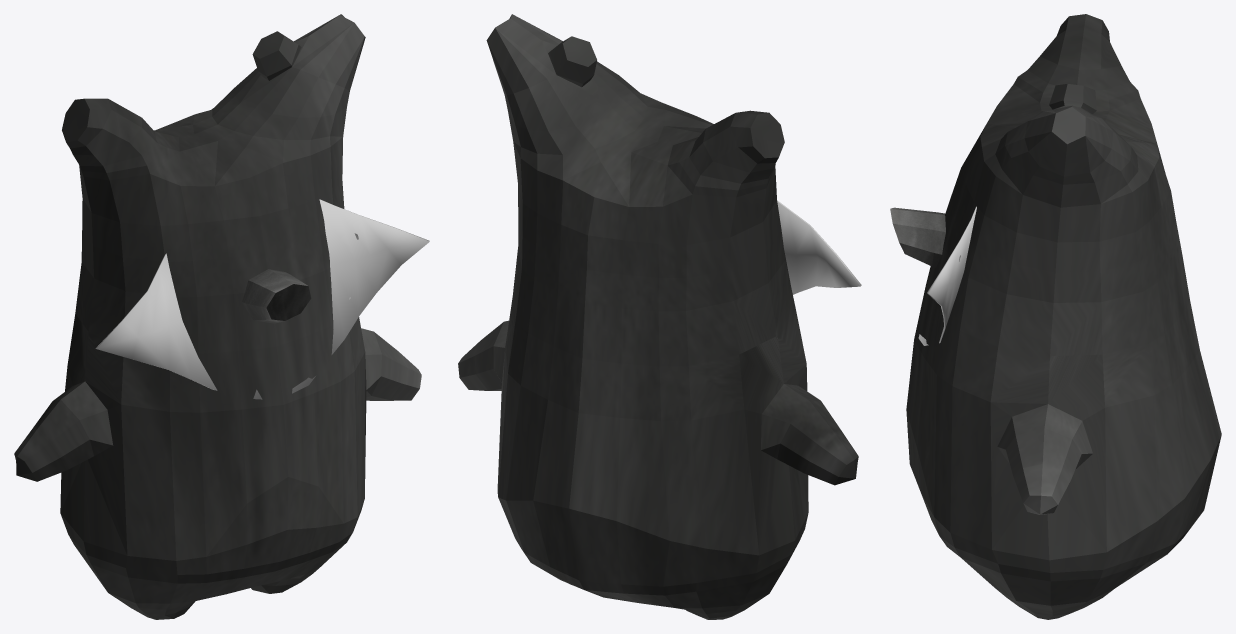
The model's file is frame_0155.obj.
3 renders of one model, left to right at view 1: azimuth 30°, elevation 25°; view 2: azimuth 150°, elevation 25°; view 3: azimuth 270°, elevation 25°, orthographic. The views are drawn at different scales.
Parts seen in each view (by area): view 1: korok, leaf, nose; view 2: korok, leaf; view 3: korok, nose, leaf.
Boxes of the visible parts, box(x1,y1,x2,y2) form: korok: box(14, 14, 421, 619); leaf: box(95, 199, 429, 399); nose: box(242, 269, 311, 323); korok: box(458, 14, 858, 619); leaf: box(777, 200, 861, 294); korok: box(906, 14, 1221, 619); nose: box(890, 207, 945, 267); leaf: box(918, 206, 976, 345).
Bounding box in the file's own units: 1.68 × 2.24 × 1.23.
